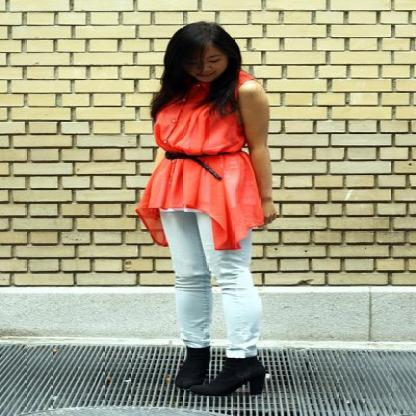dress: (135, 85, 279, 250)
pants: (162, 207, 324, 360)
shoe: (175, 346, 266, 401)
